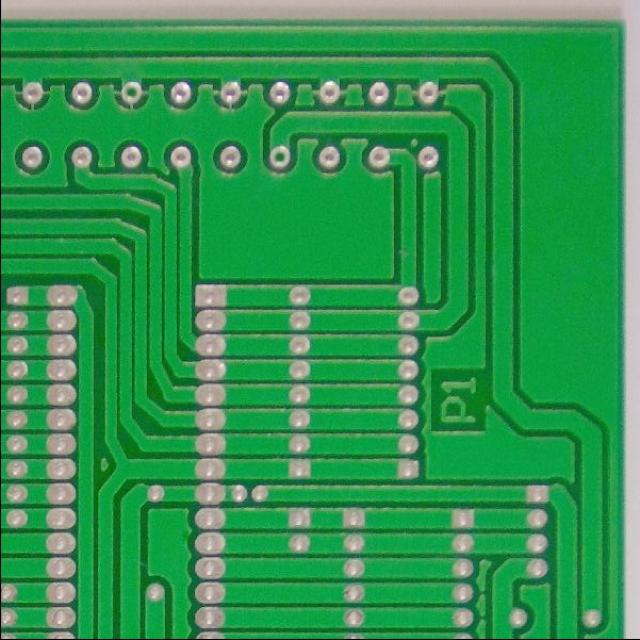Missing_Hole: (265, 142, 293, 169), (117, 79, 145, 105)
